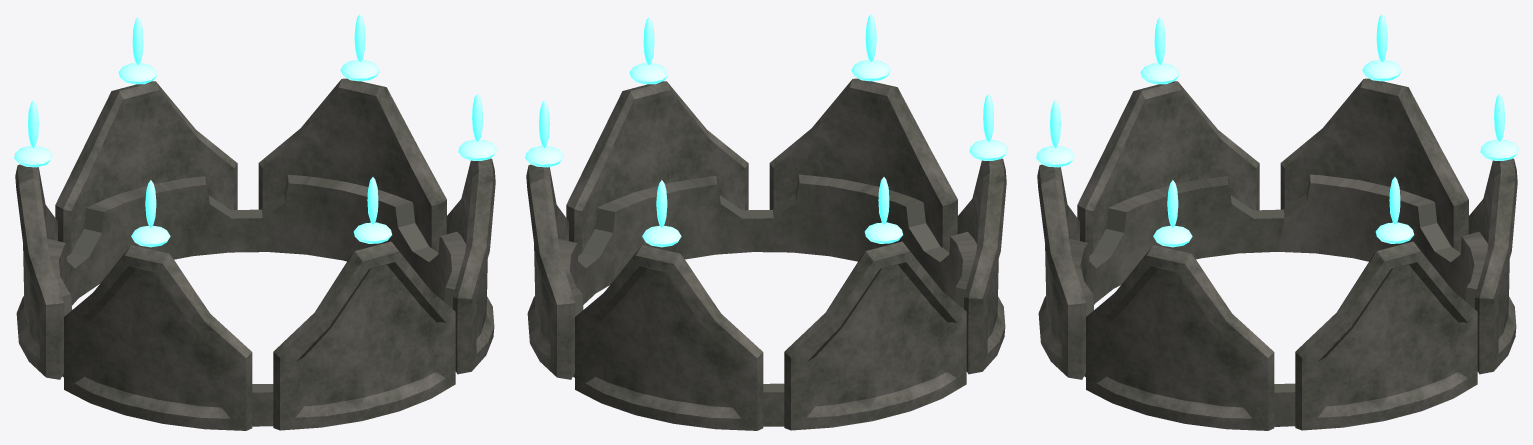
Rendered from crown.glb.
The picture shows the model from 3 angles, left to right: view 1: azimuth 30°, elevation 25°; view 2: azimuth 150°, elevation 25°; view 3: azimuth 270°, elevation 25°; orthographic projection.
Visible parts, largest first — view 1: crown_export; view 2: crown_export; view 3: crown_export.
Boxes of the visible parts, left/top/right/bottom form: crown_export: left=14, top=14, right=496, bottom=430; crown_export: left=525, top=14, right=1007, bottom=430; crown_export: left=1036, top=14, right=1518, bottom=430.
Size of the model in its own units: 1.13 by 0.6287 by 1.15.
1 material, 1 textured.
